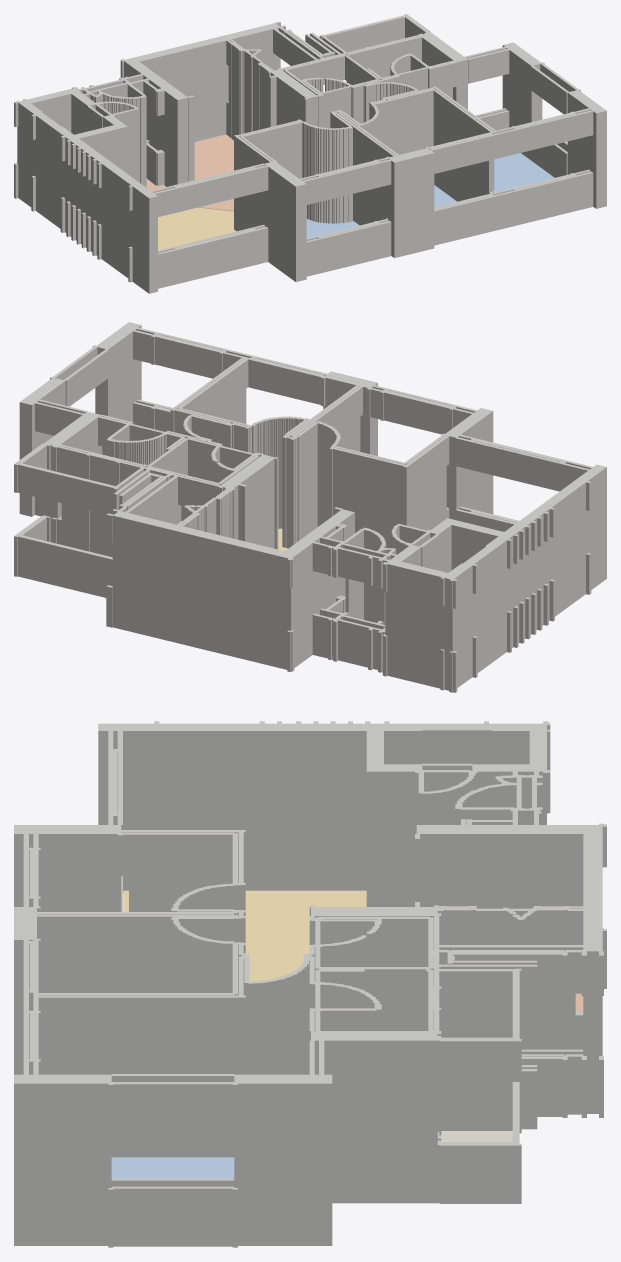
3 renders of one model, top to bottom at view 1: azimuth 30°, elevation 25°; view 2: azimuth 150°, elevation 25°; view 3: azimuth 270°, elevation 25°, orthographic. The views are drawn at different scales.
Parts seen in each view (by area): view 1: walls, room:living:2, room:kitchen:0, room:bedroom:8, room:bedroom:3; view 2: walls; view 3: walls, room:living:2, room:bedroom:8, room:other:11.
Part boxes in pixels (left/top/right/bottom): walls: left=14, top=14, right=606, bottom=293; room:living:2: left=158, top=207, right=235, bottom=250; room:kitchen:0: left=146, top=134, right=233, bottom=211; room:bedroom:8: left=494, top=153, right=554, bottom=191; room:bedroom:3: left=306, top=219, right=359, bottom=238; walls: left=14, top=322, right=606, bottom=692; walls: left=14, top=721, right=606, bottom=1247; room:living:2: left=123, top=890, right=366, bottom=981; room:bedroom:8: left=111, top=1157, right=234, bottom=1178; room:other:11: left=441, top=1131, right=512, bottom=1141.
Size of the model in its own units: 13.43 by 2.8 by 9.26.
